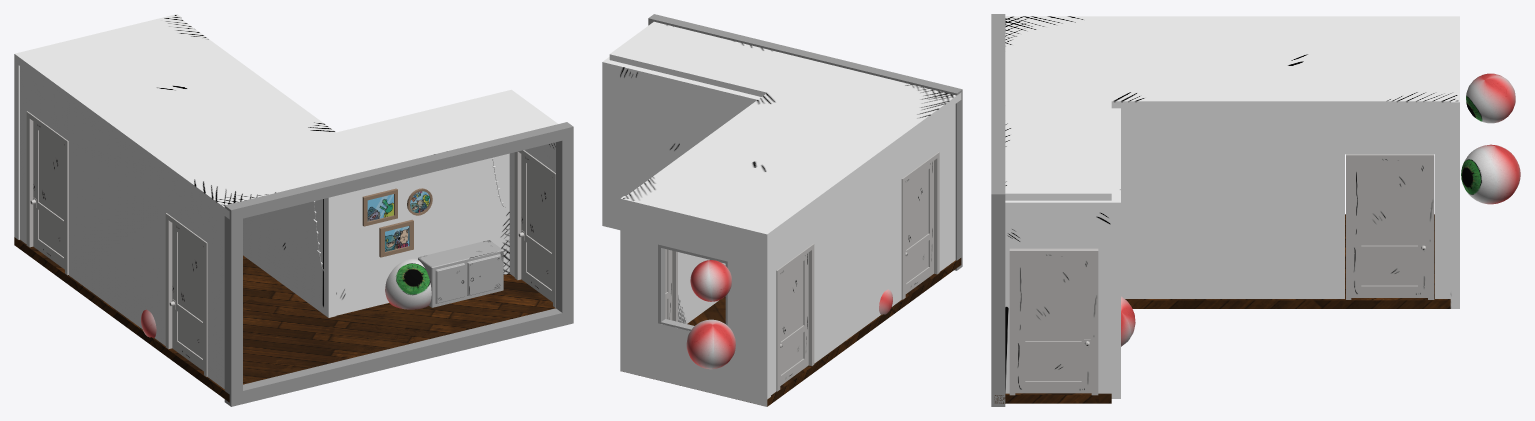
File: Hall.fbx
3 views of the same model, side by side, from view 1: azimuth 30°, elevation 25°; view 2: azimuth 150°, elevation 25°; view 3: azimuth 270°, elevation 25° (orthographic). The views are drawn at different scales.
Parts seen in each view (by area): view 1: Ceiling, RightWall, OutsideFrame, Floor, Wall, Door2 (×3), LeftWall, Sideboard1, Eye3, Door4, Door5, Door6 (+4 smaller); view 2: Ceiling, RightWall, BackgroundWall, Wall, Door2 (×3), OutsideFrame, Floor, Eye1, Door4, Door5, LeftWall, Eye2 (+2 smaller); view 3: Ceiling, LeftWall, Door2 (×2), Wall, OutsideFrame, Floor, Eye1, Door6, Door3, BackgroundWall, Eye2, Eye3.
Boxes of the visible parts, <box> form: Ceiling: <box>14,14,557,219</box>; RightWall: <box>20,66,224,388</box>; OutsideFrame: <box>224,122,573,406</box>; Floor: <box>14,237,555,402</box>; Wall: <box>336,142,555,315</box>; Door2 (×3): <box>33,121,552,371</box>; LeftWall: <box>243,196,336,317</box>; Sideboard1: <box>418,240,503,307</box>; Eye3: <box>385,258,431,309</box>; Door4: <box>26,111,68,275</box>; Door5: <box>165,213,207,376</box>; Door6: <box>514,150,555,307</box>; Ceiling: <box>609,21,961,241</box>; RightWall: <box>771,104,955,394</box>; BackgroundWall: <box>620,196,770,406</box>; Wall: <box>602,57,760,229</box>; Door2 (×3): <box>665,161,933,385</box>; OutsideFrame: <box>648,14,962,270</box>; Floor: <box>639,258,961,406</box>; Eye1: <box>686,319,735,369</box>; Door4: <box>776,243,814,391</box>; Door5: <box>901,152,939,299</box>; LeftWall: <box>678,252,725,323</box>; Eye2: <box>690,260,731,301</box>; Ceiling: <box>1005,16,1459,200</box>; LeftWall: <box>1121,110,1450,298</box>; Door2 (×2): <box>1015,160,1427,393</box>; Wall: <box>1005,108,1120,398</box>; OutsideFrame: <box>991,14,1005,406</box>; Floor: <box>994,214,1450,403</box>; Eye1: <box>1461,144,1520,204</box>; Door6: <box>1009,248,1098,395</box>; Door3: <box>1346,154,1434,299</box>; BackgroundWall: <box>1450,16,1459,308</box>; Eye2: <box>1466,73,1515,123</box>; Eye3: <box>1121,296,1135,346</box>.
Size of the model in its own units: 338 by 183 by 412.
16 materials, 13 textured.
